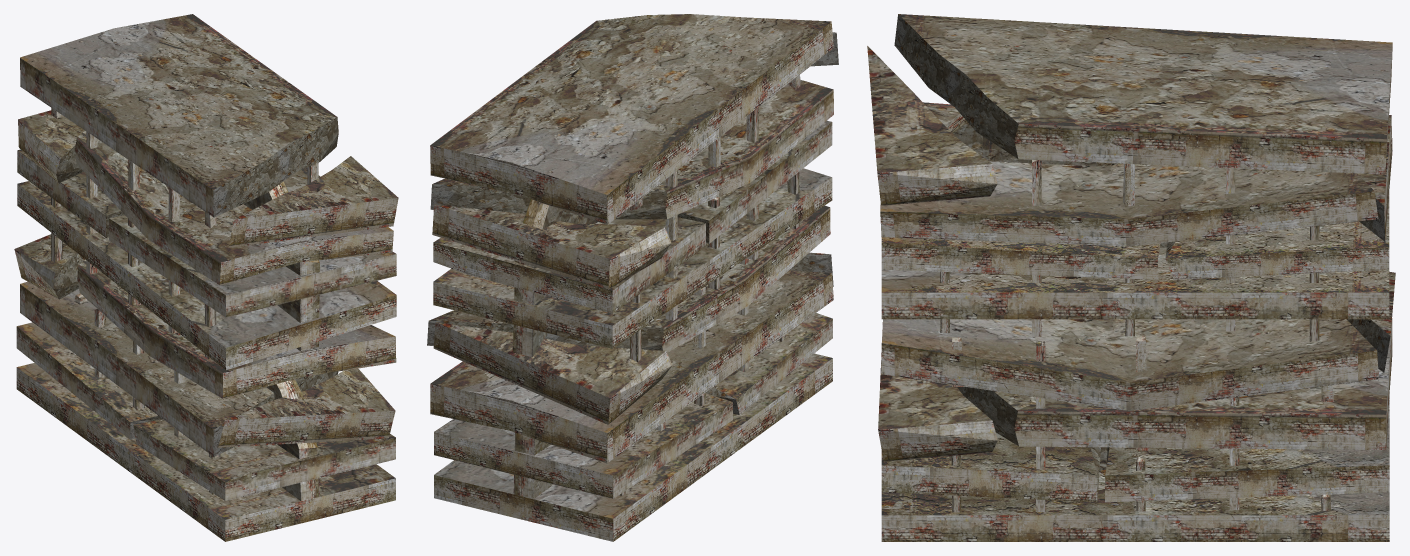
Rendered from building.obj.
3 renders of one model, left to right at view 1: azimuth 30°, elevation 25°; view 2: azimuth 150°, elevation 25°; view 3: azimuth 270°, elevation 25°, orthographic. The views are drawn at different scales.
Parts seen in each view (by area): view 1: Building.001; view 2: Building.001; view 3: Building.001.
Boxes of the visible parts, left/top/right/bottom form: Building.001: left=14, top=14, right=398, bottom=541; Building.001: left=427, top=14, right=838, bottom=541; Building.001: left=867, top=14, right=1395, bottom=541.
Bounding box in the file's own units: 56.61 × 99.12 × 112.
